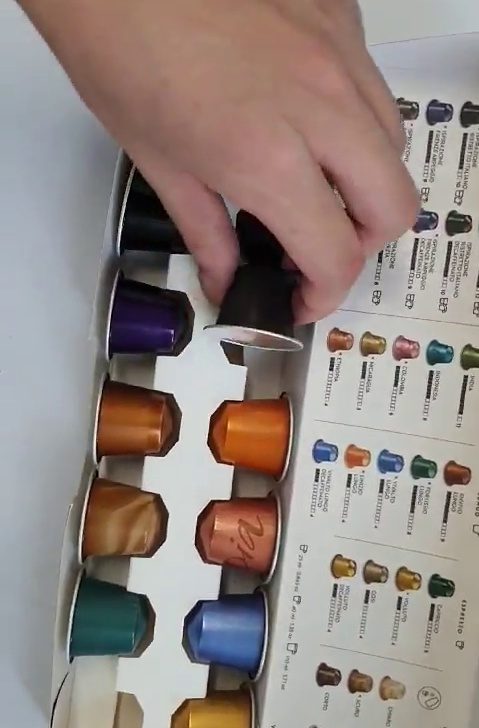capsule_4: (204, 257, 307, 360)
